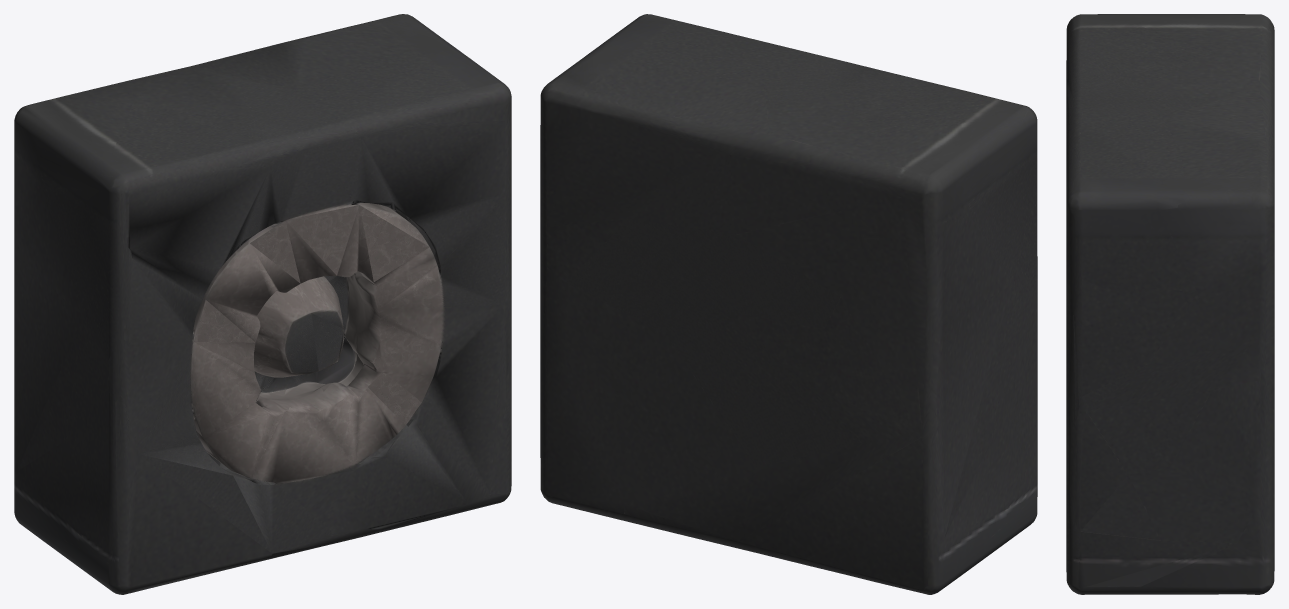
Rendered from laje-ardosia.fbx.
3 renders of one model, left to right at view 1: azimuth 30°, elevation 25°; view 2: azimuth 150°, elevation 25°; view 3: azimuth 270°, elevation 25°, orthographic. The views are drawn at different scales.
Parts seen in each view (by area): view 1: mesh_node; view 2: mesh_node; view 3: mesh_node.
Boxes of the visible parts, box(x1,y1,x2,y2) form: mesh_node: box(14, 14, 511, 594); mesh_node: box(540, 14, 1037, 594); mesh_node: box(1066, 14, 1274, 594).
Size of the model in its own units: 190 by 190 by 88.85.
Materials: 1 (1 with a texture image).
